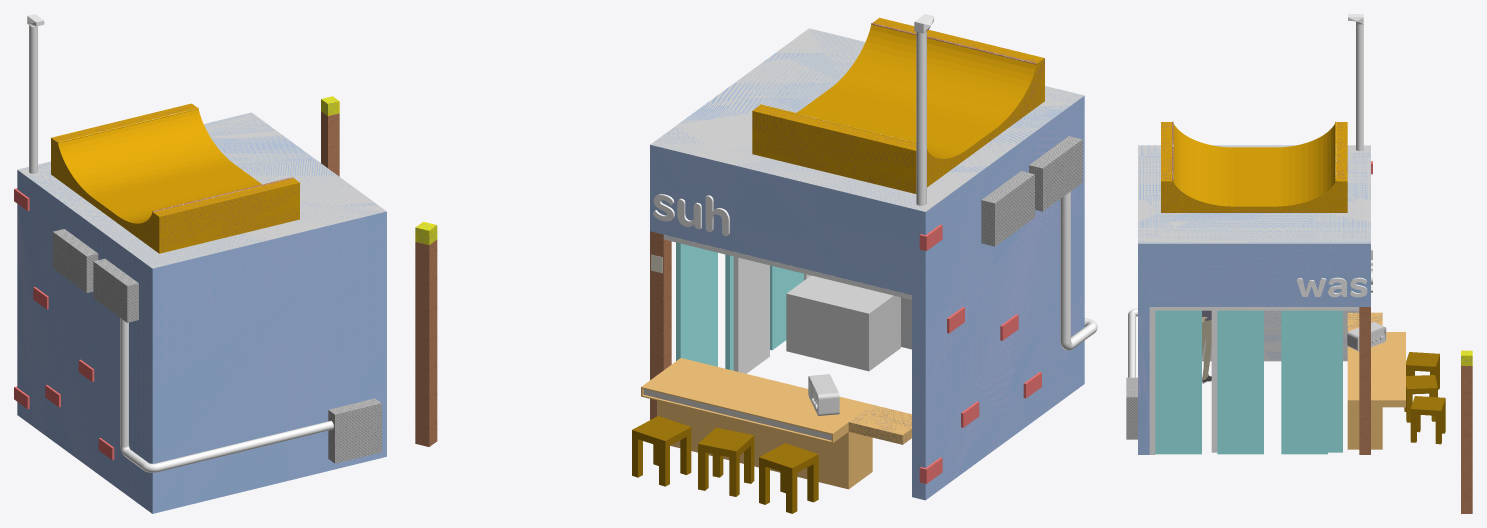
Rendered from hut4.glb.
The picture shows the model from 3 angles, left to right: view 1: azimuth 30°, elevation 25°; view 2: azimuth 150°, elevation 25°; view 3: azimuth 270°, elevation 25°; orthographic projection. The views are drawn at different scales.
Visible parts, largest first — view 1: group_0.001, group_14.002, group_0.002, group_14.001, SketchUp, group_7, group_5, group_6, group_15, group_26; view 2: group_0.001, group_0.002, group_14.002, group_2, group_14.001, group_19, group_26, group_33, group_32, group_1, group_6, group_35 (+11 smaller); view 3: group_0.001, group_0.002, group_14.002, group_29, group_30, group_31, group_2, group_14.001, group_33, group_1, group_26, group_0 (+10 smaller).
Boxes of the visible parts, box(x1,y1,x2,y2) form: group_0.001: box(17, 170, 386, 513); group_14.002: box(58, 109, 262, 223); group_0.002: box(17, 112, 386, 268); group_14.001: box(51, 103, 299, 253); SketchUp: box(120, 318, 333, 472); group_7: box(328, 398, 381, 463); group_5: box(93, 258, 138, 322); group_6: box(52, 229, 98, 292); group_15: box(29, 25, 37, 173); group_26: box(321, 111, 339, 176); group_0.001: box(650, 96, 1084, 500); group_0.002: box(650, 28, 1084, 211); group_14.002: box(796, 24, 1036, 158); group_2: box(641, 358, 872, 489); group_14.001: box(752, 17, 1044, 193); group_19: box(786, 275, 900, 371); group_26: box(415, 240, 437, 446); group_33: box(676, 242, 712, 365); group_32: box(733, 256, 769, 373); group_1: box(650, 231, 671, 419); group_6: box(981, 171, 1034, 246); group_35: box(698, 427, 754, 496); group_0.001: box(1138, 243, 1370, 454); group_0.002: box(1138, 145, 1370, 243); group_14.002: box(1173, 124, 1335, 206); group_29: box(1155, 310, 1201, 454); group_30: box(1217, 310, 1263, 454); group_31: box(1281, 310, 1327, 454); group_2: box(1347, 332, 1405, 449); group_14.001: box(1161, 122, 1347, 212); group_33: box(1328, 310, 1342, 452); group_1: box(1359, 307, 1370, 454); group_26: box(1461, 366, 1472, 513); group_0: box(1202, 310, 1359, 361).
Size of the model in its own units: 5.03 by 4.98 by 4.53.
Materials: 27 (6 with a texture image).
